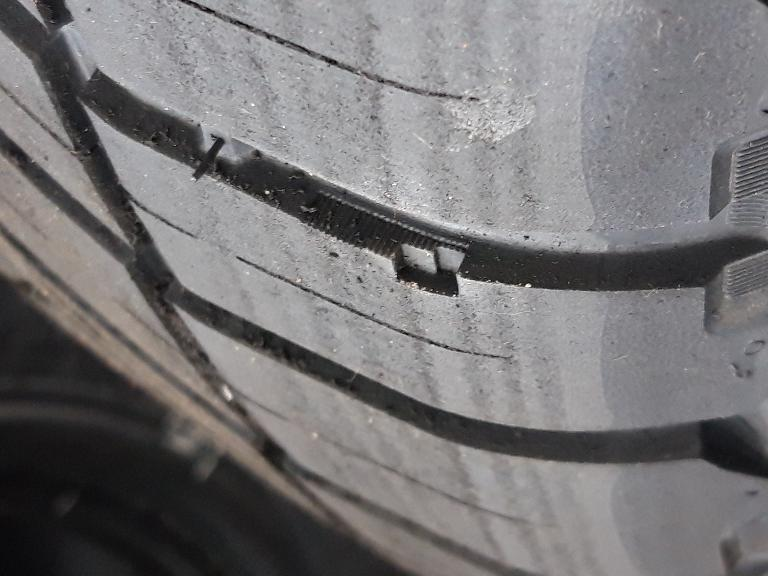temoin:50: (347, 214, 476, 310)
